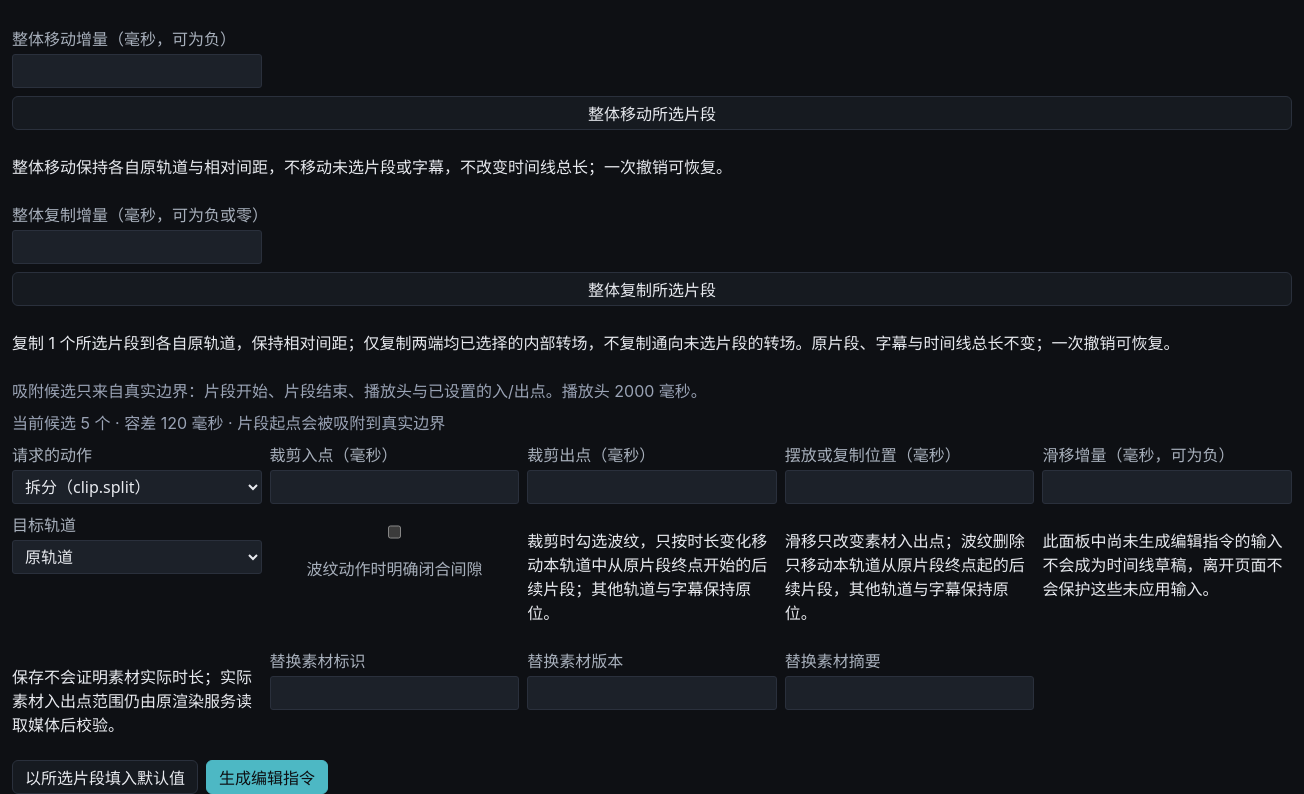
Test: 不受支持的编辑被拒绝而不是静默替换 › 受支持的动作只发出原 owner 的操作描述符
This screenshot has width=1304, height=794.
(page scrolled)
Click the button "以所选片段填入默认值" at (105, 777), box [12,760,198,793]
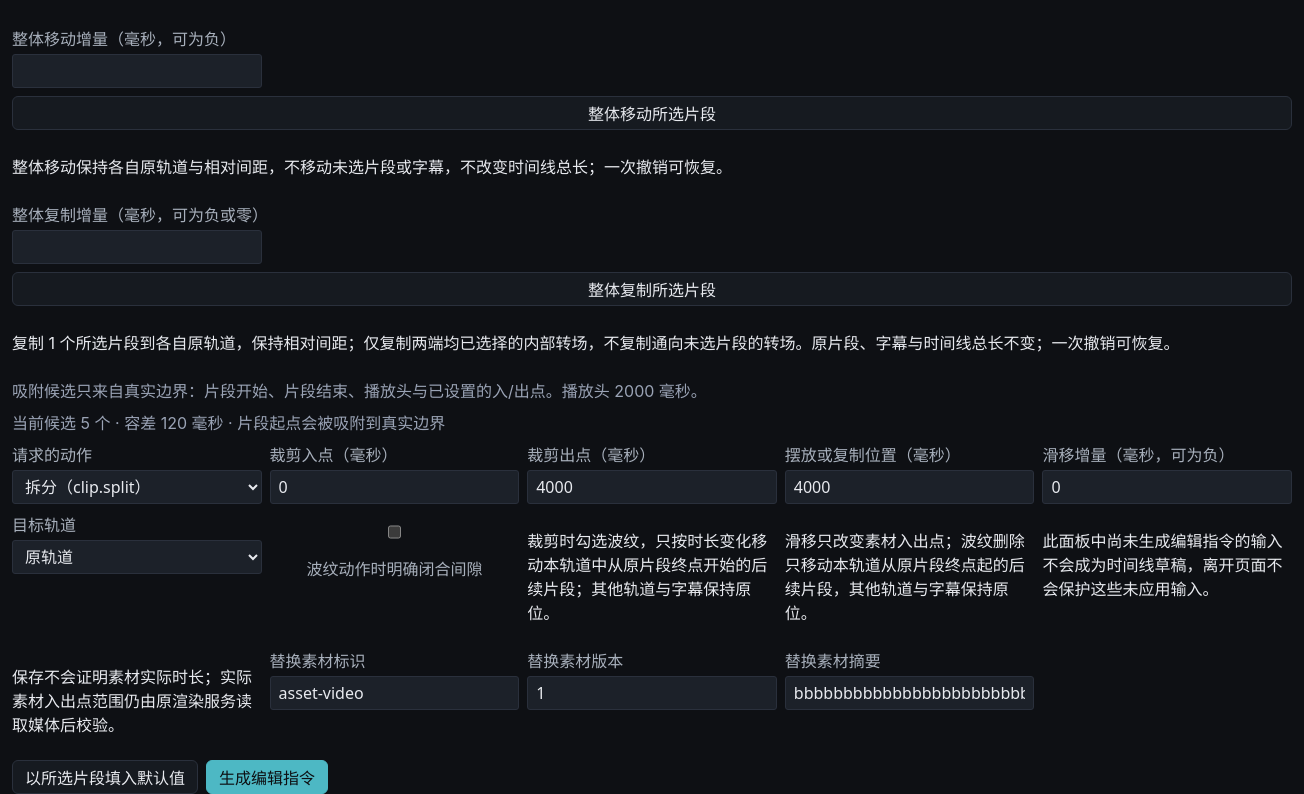
Click the button "生成编辑指令" at (267, 777), box [206,760,328,793]
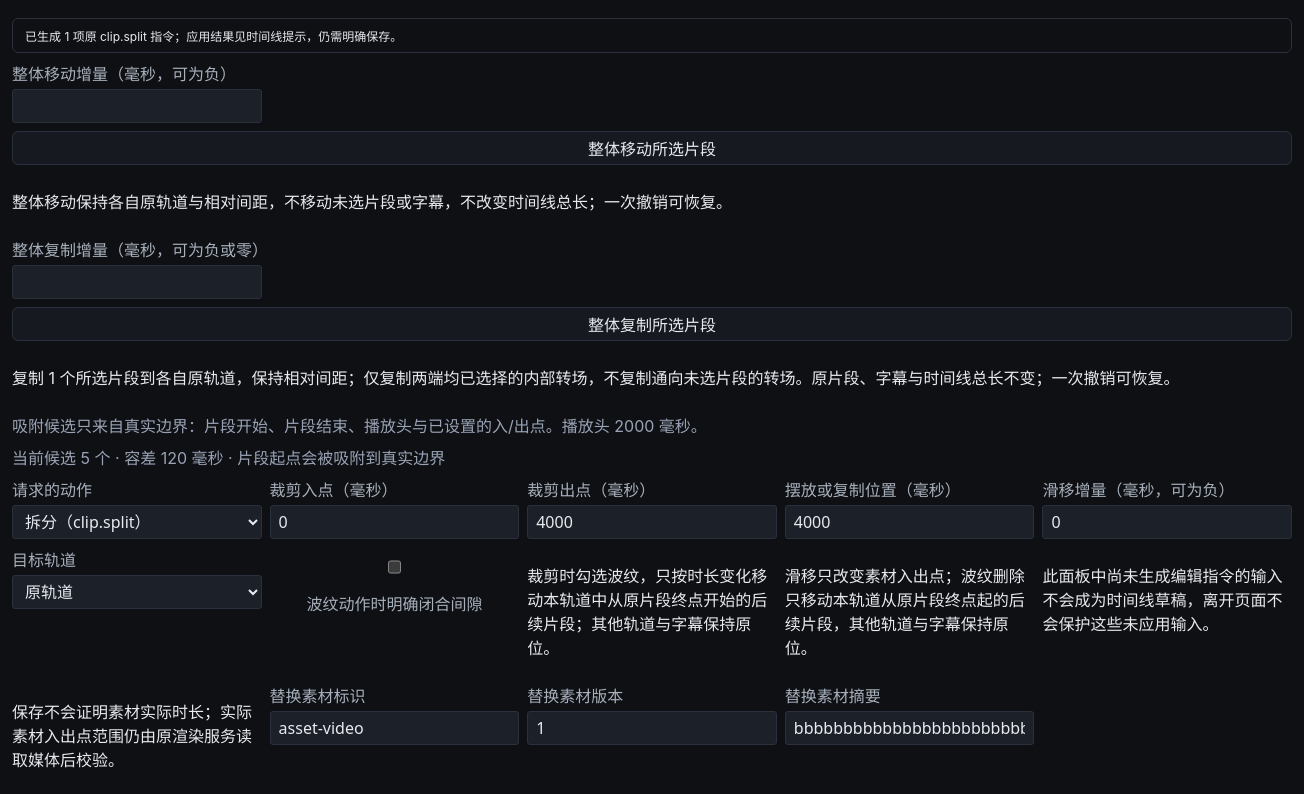
Expected: the text "已生成 1 项原 clip.split 指令；应用结果见时间线提示，仍需明确保存。" is shown, [12,18,1292,53]
